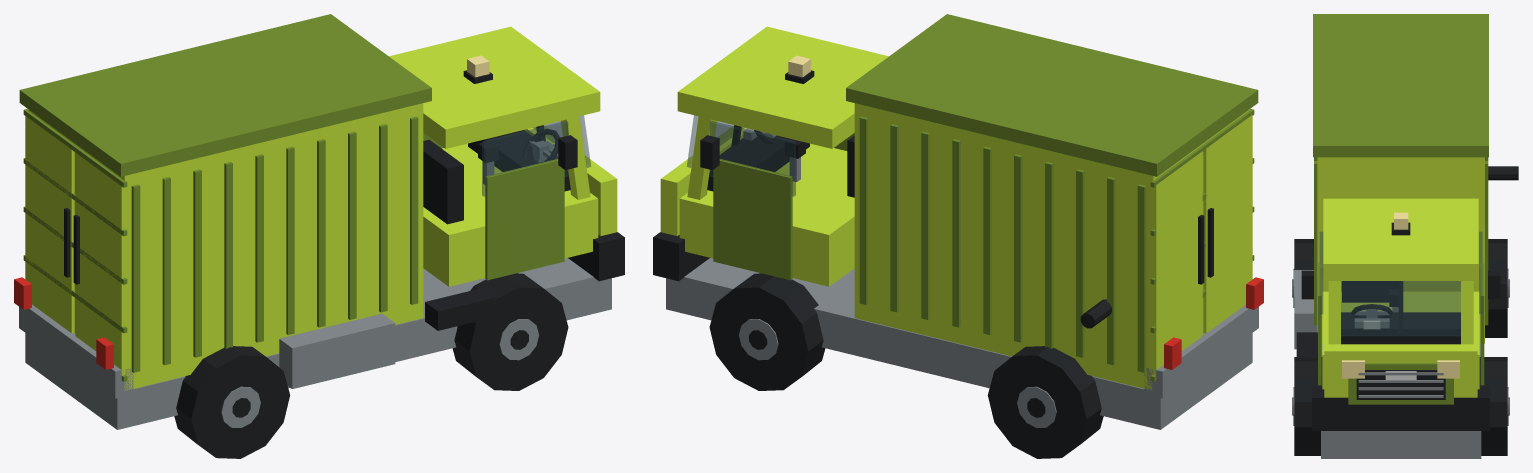
File: truk_refference_rig.glb
3 views of the same model, side by side, from view 1: azimuth 30°, elevation 25°; view 2: azimuth 150°, elevation 25°; view 3: azimuth 270°, elevation 25° (orthographic). The views are drawn at different scales.
Parts seen in each view (by area): view 1: CargoBox, CargoRoof, CabRoof, Chassis.001, Wheel_RL_TIRE, Door_L, CargoRearDoor_R, CargoRearDoor_L, Wheel_FL_TIRE, CabLowerPanel, FuelTank, RearBumper (+21 smaller); view 2: CargoBox, CargoRoof, Chassis.001, CabRoof, CabLowerPanel, Wheel_FR_TIRE, CargoRearDoor_R, CargoRearDoor_L, Wheel_RR_TIRE, Door_R, RearBumper, CabSideWindow_R (+18 smaller); view 3: CargoRoof, CabRoof, CargoBox, CabWindshield, FrontBumper, Chassis.001, FrontFascia, Dashboard.001, CabLowerPanel, Wheel_FR_TIRE, Wheel_FL_TIRE, Wheel_RR_TIRE (+27 smaller).
Part boxes in pixels (x1,y1,x2,y2): CargoBox: (28,103,423,390); CargoRoof: (19,14,431,176); CabRoof: (389,26,600,148); Chassis.001: (25,258,611,429); Wheel_RL_TIRE: (174,346,290,458); Door_L: (485,159,564,280); CargoRearDoor_R: (25,116,74,333); CargoRearDoor_L: (75,152,125,375); Wheel_FL_TIRE: (452,273,568,390); CabLowerPanel: (423,143,598,286); FuelTank: (279,313,395,388); RearBumper: (19,304,133,398); CargoBox: (854,103,1249,390); CargoRoof: (846,14,1258,176); Chassis.001: (666,258,1252,429); CabRoof: (677,26,888,148); CabLowerPanel: (679,143,854,286); Wheel_FR_TIRE: (709,273,825,390); CargoRearDoor_R: (1152,151,1202,375); CargoRearDoor_L: (1203,115,1252,333); Wheel_RR_TIRE: (987,346,1103,458); Door_R: (713,159,792,280); RearBumper: (1144,304,1258,398); CabSideWindow_R: (709,121,795,196); CargoRoof: (1313,14,1488,157); CabRoof: (1323,198,1478,280); CargoBox: (1317,157,1484,343); CabWindshield: (1341,281,1460,336); FrontBumper: (1312,387,1489,430); Chassis.001: (1321,343,1481,458); FrontFascia: (1324,344,1477,397); Dashboard.001: (1341,312,1460,344); CabLowerPanel: (1322,291,1479,389); Wheel_FR_TIRE: (1479,357,1507,455); Wheel_FL_TIRE: (1294,357,1322,455); Wheel_RR_TIRE: (1485,239,1507,337).
Bounding box in the file's own units: 10.11 × 5.82 × 4.37.
